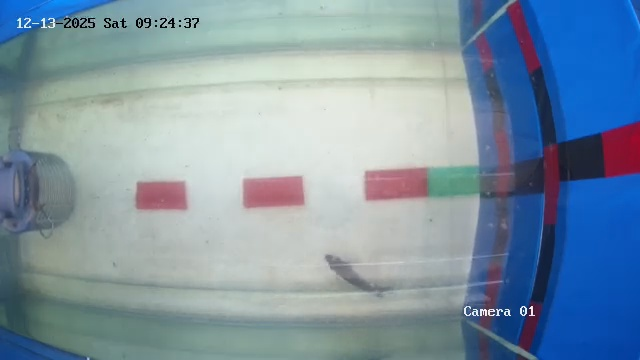fish: (320, 255, 405, 288)
